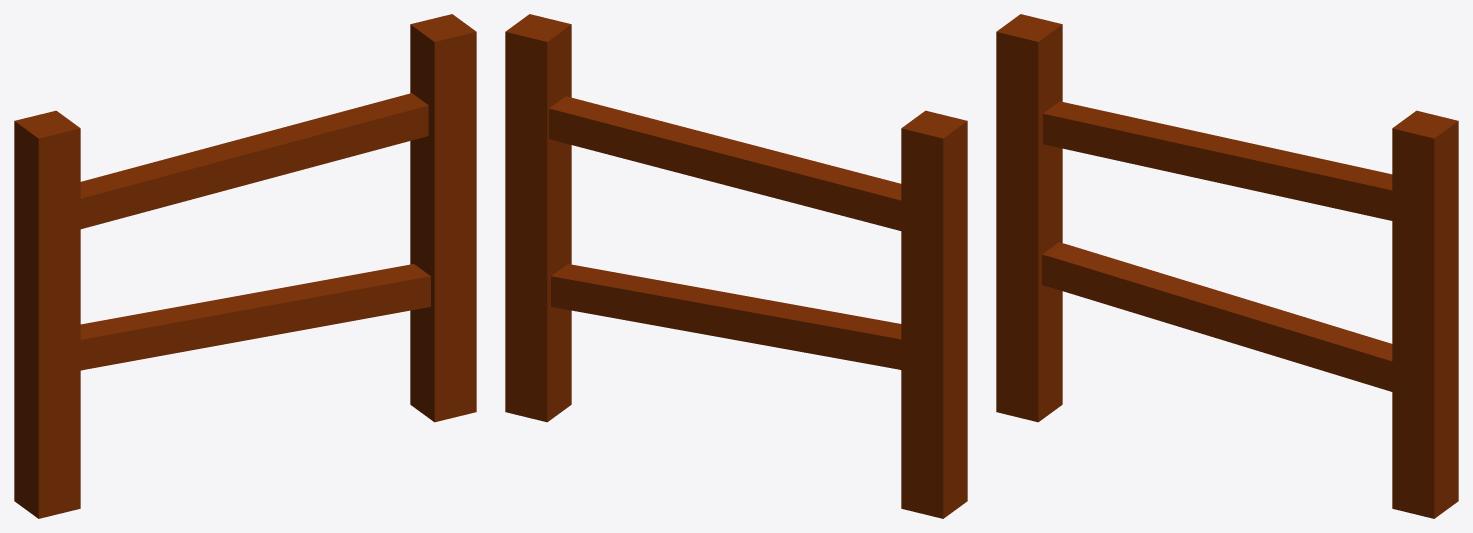
File: Fence.fbx
The picture shows the model from 3 angles, left to right: view 1: azimuth 30°, elevation 25°; view 2: azimuth 150°, elevation 25°; view 3: azimuth 330°, elevation 25°; orthographic projection.
Visible parts, largest first — view 1: Cube, Cube.001, Cube.003, Cube.002; view 2: Cube, Cube.001, Cube.003, Cube.002; view 3: Cube.001, Cube, Cube.002, Cube.003.
Boxes of the visible parts, <box> form: Cube: <box>14,110,80,518</box>; Cube.001: <box>410,14,476,422</box>; Cube.003: <box>80,93,428,229</box>; Cube.002: <box>80,264,430,370</box>; Cube: <box>901,110,967,518</box>; Cube.001: <box>505,14,571,422</box>; Cube.003: <box>549,96,901,230</box>; Cube.002: <box>551,264,901,369</box>; Cube.001: <box>1392,110,1458,518</box>; Cube: <box>996,14,1062,422</box>; Cube.002: <box>1042,242,1392,391</box>; Cube.003: <box>1043,101,1392,220</box>.
Size of the model in its own units: 15378 by 12762 by 1477.
